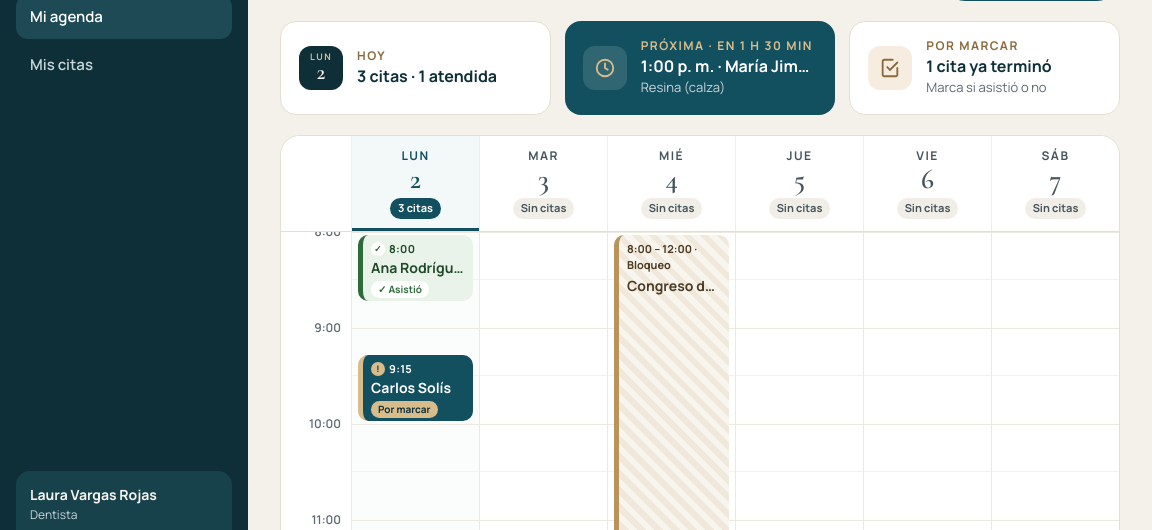
Agenda semanal › seleccionar cita terminada permite marcar Asistió y actualiza el chip
This screenshot has width=1152, height=530.
Click the button "! 9:15 Carlos Solís Por marcar" at (416, 388), box [358,355,473,421]
(page scrolled)
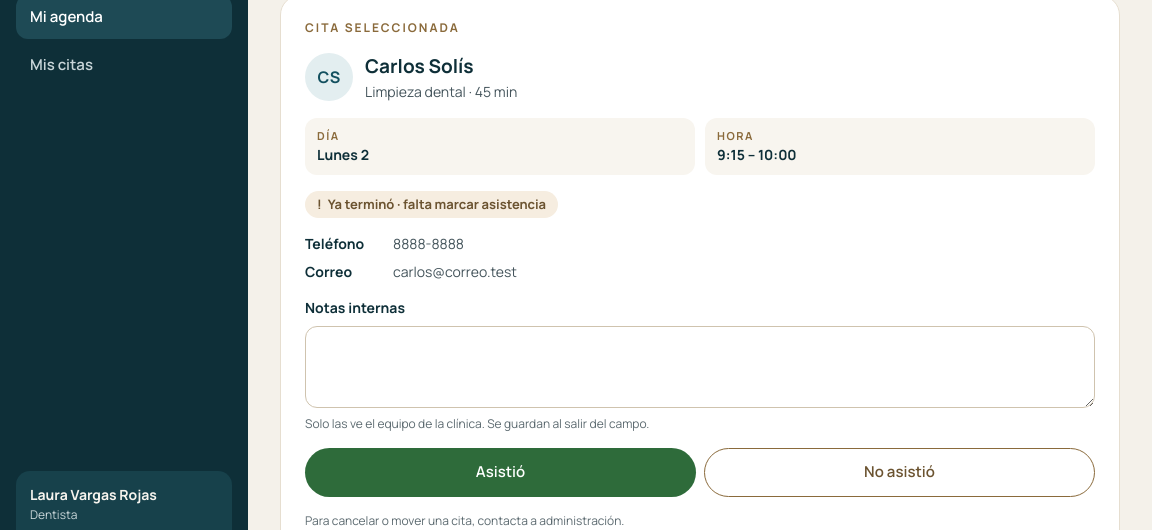
expect the heading "Carlos Solís" is shown: met, box [365,53,474,79]
expect the text "Ya terminó · falta marcar asistencia" is shown: met, box [328,195,546,213]
Click the button "Asistió" at (500, 473), box [305,448,696,497]
(page scrolled)
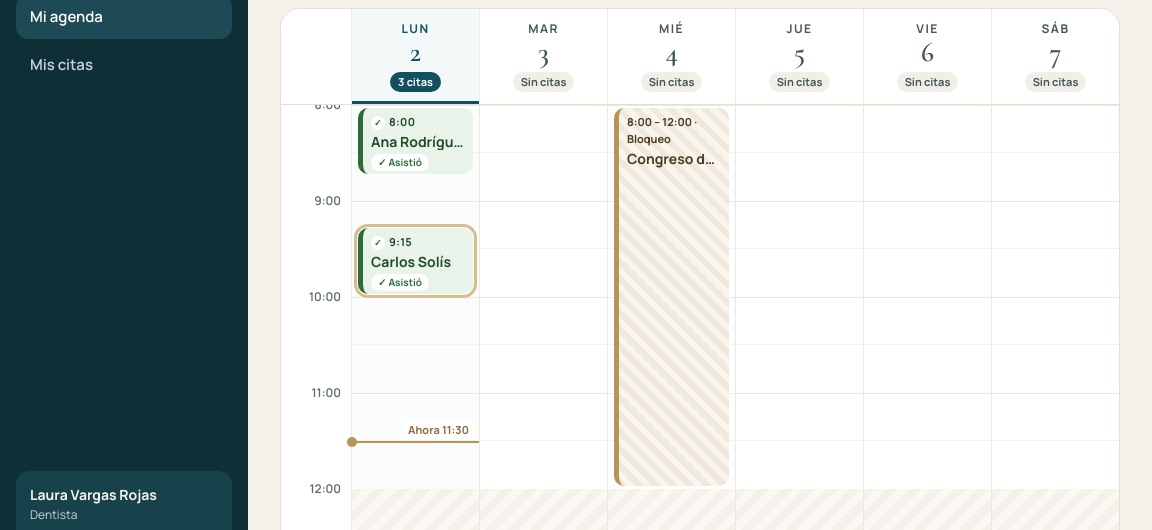
expect the button "✓ 9:15 Carlos Solís ✓ Asistió" is shown: met, box [358,228,473,294]
